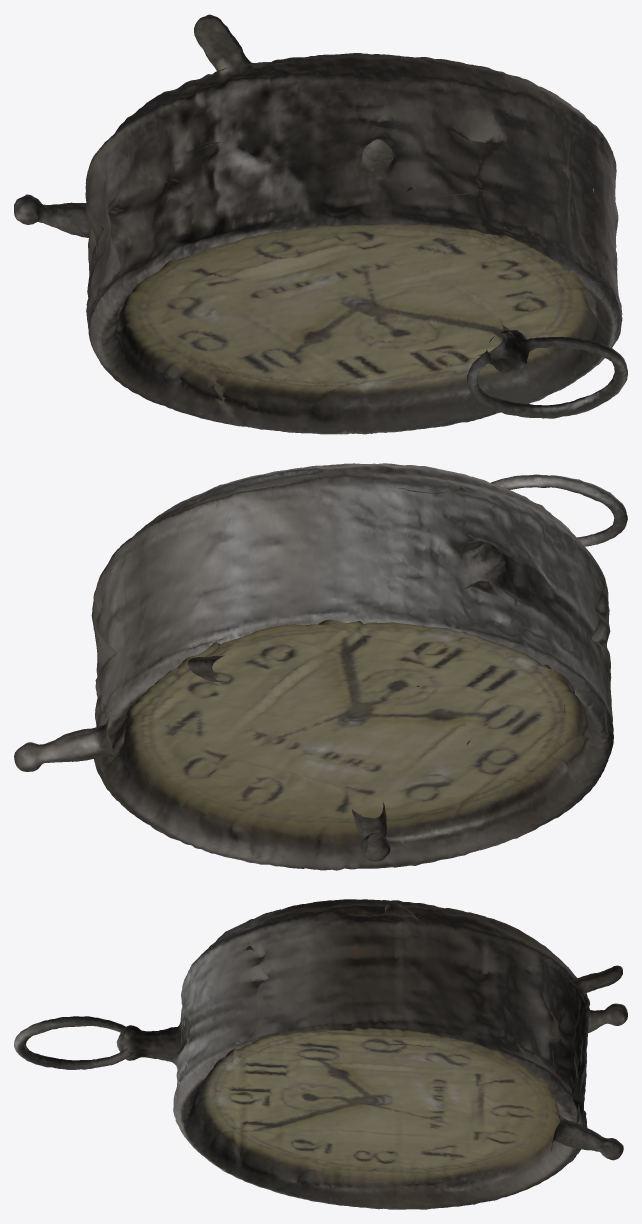
File: alarm.glb
The picture shows the model from 3 angles, top to bottom: view 1: azimuth 30°, elevation 25°; view 2: azimuth 150°, elevation 25°; view 3: azimuth 270°, elevation 25°; orthographic projection. The views are drawn at different scales.
Bounding box in the file's own units: 0.6799 × 0.3239 × 0.9998.
